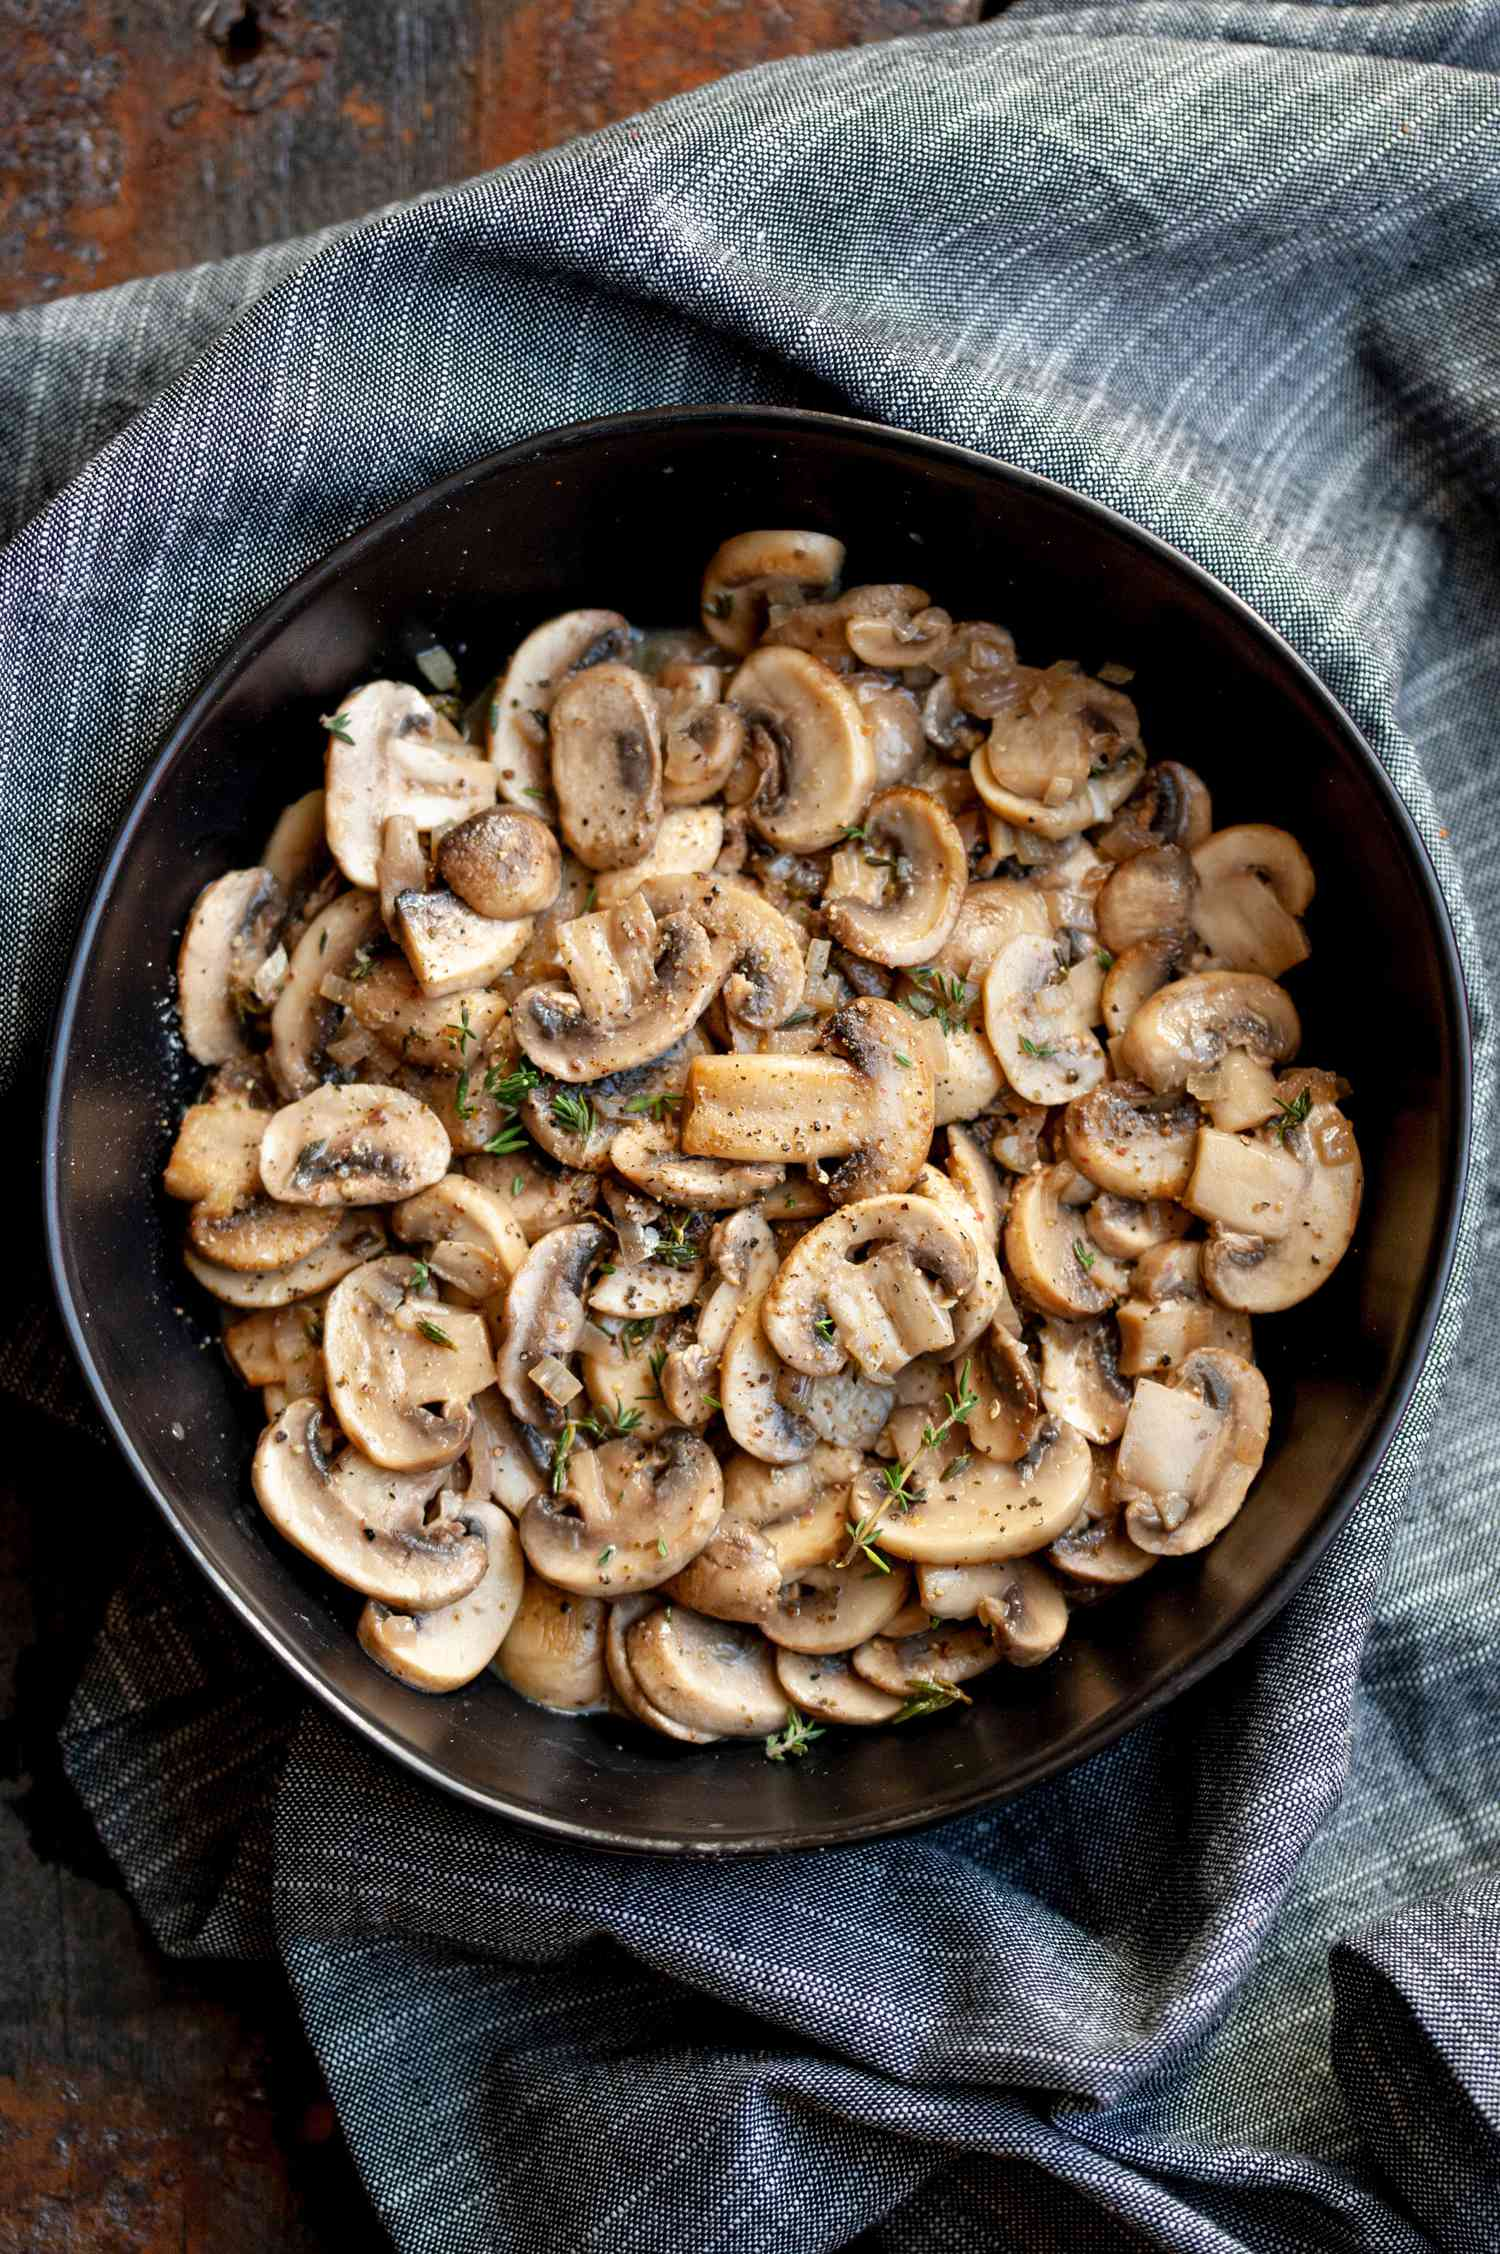mushroom-white: (162, 542, 1361, 1747)
